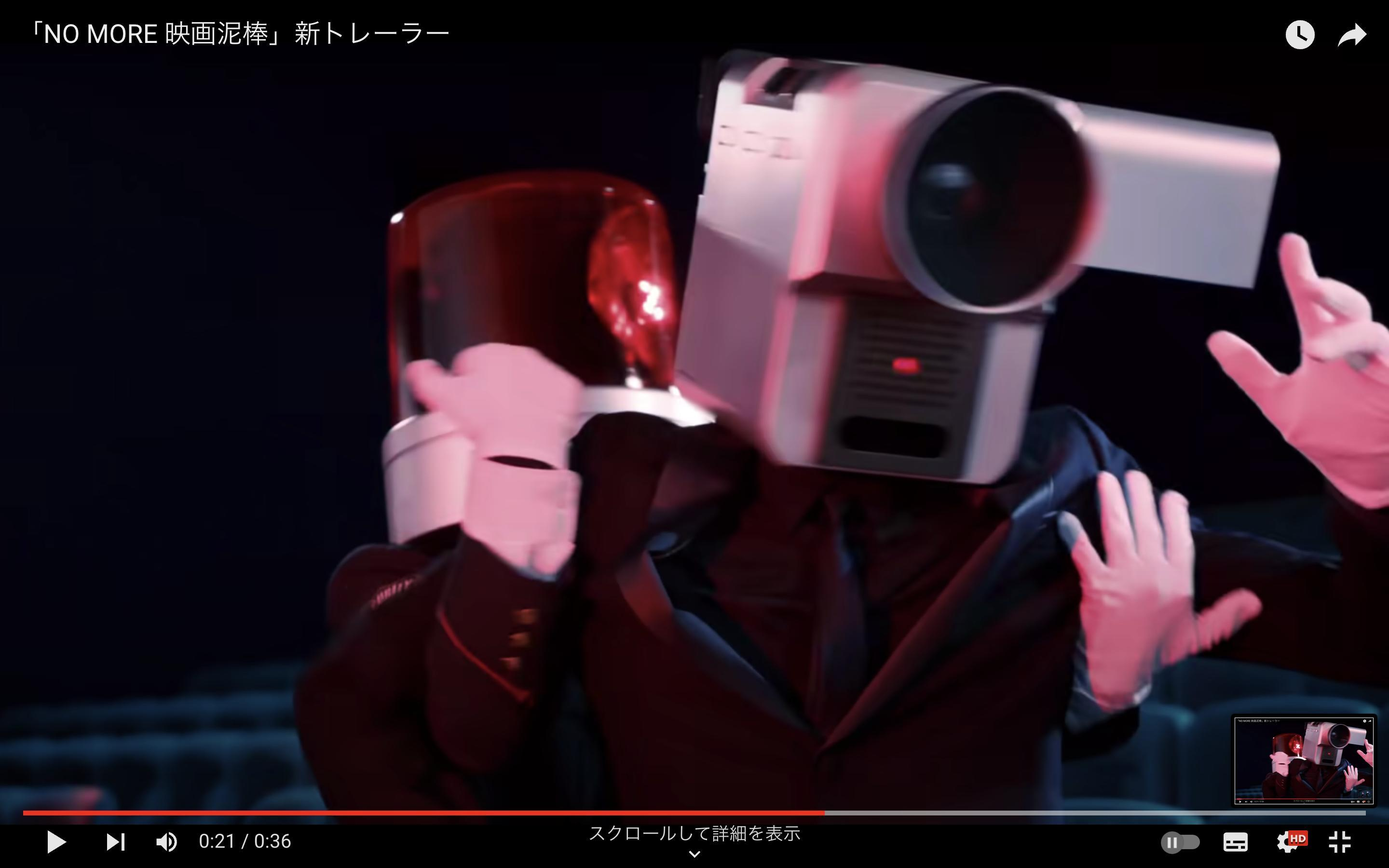no more kid: (659, 40, 1284, 495)
